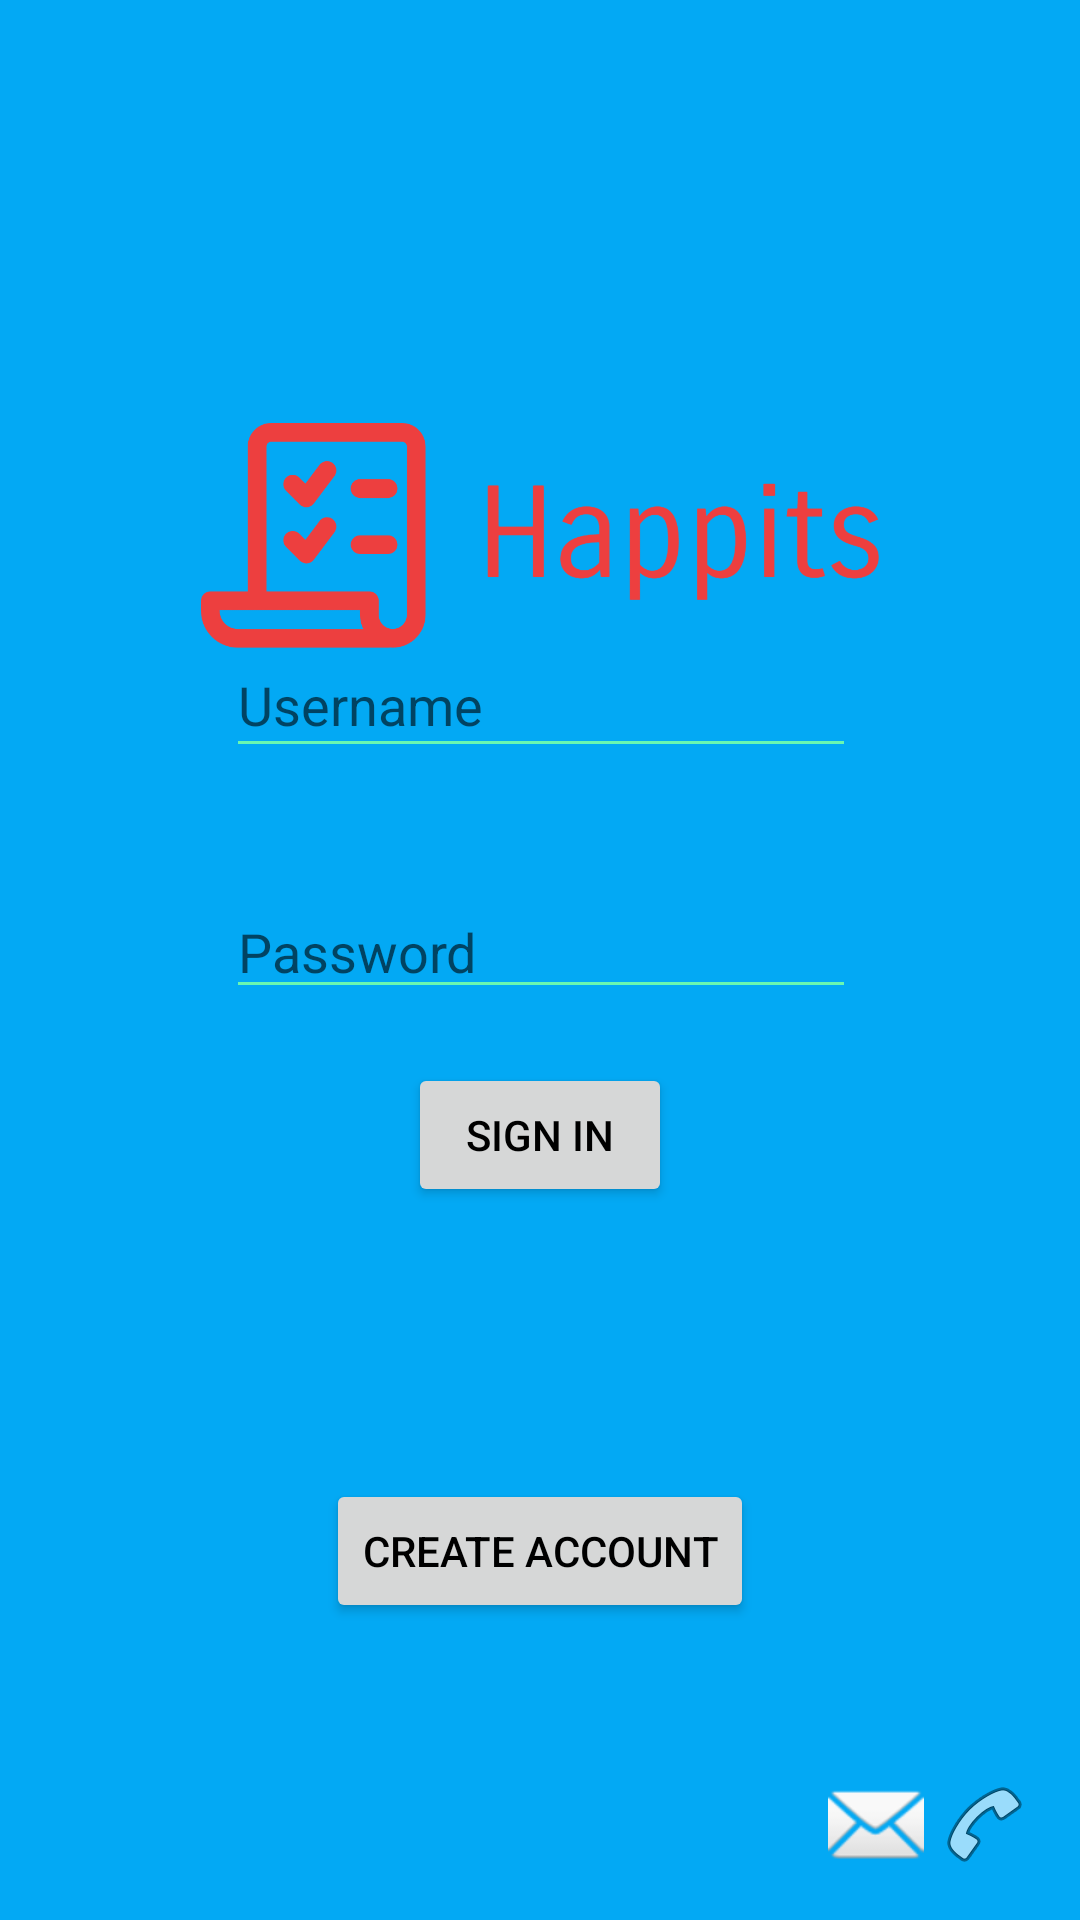

Icon click points for this 1080px x 1920px phone screenshot, format point (x, y):
call: point (984, 1824)
email: point (876, 1825)
